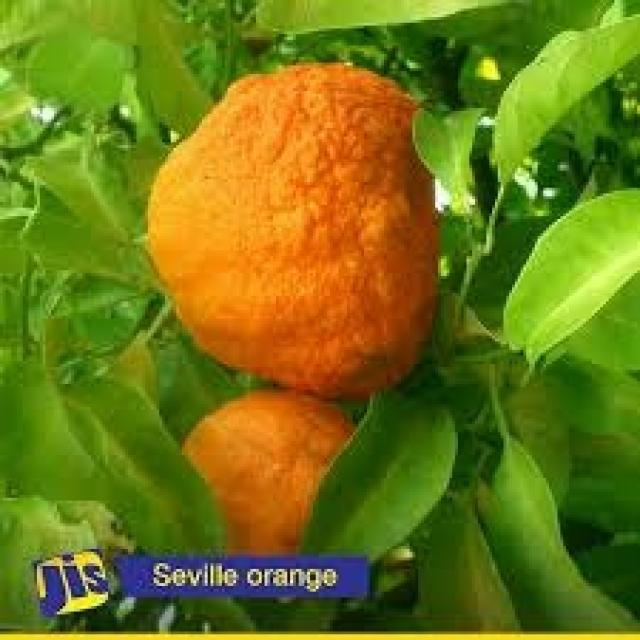Good_Orange: (151, 65, 438, 393)
